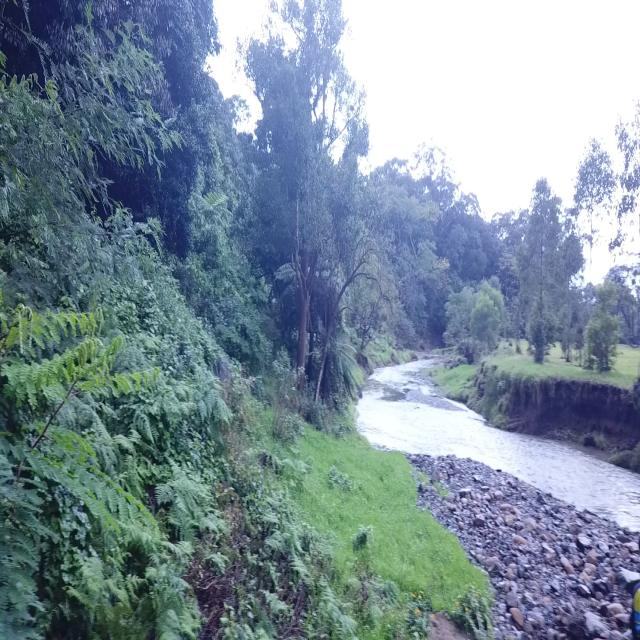Mysore-Thorn-Weed: (0, 245, 164, 615)
